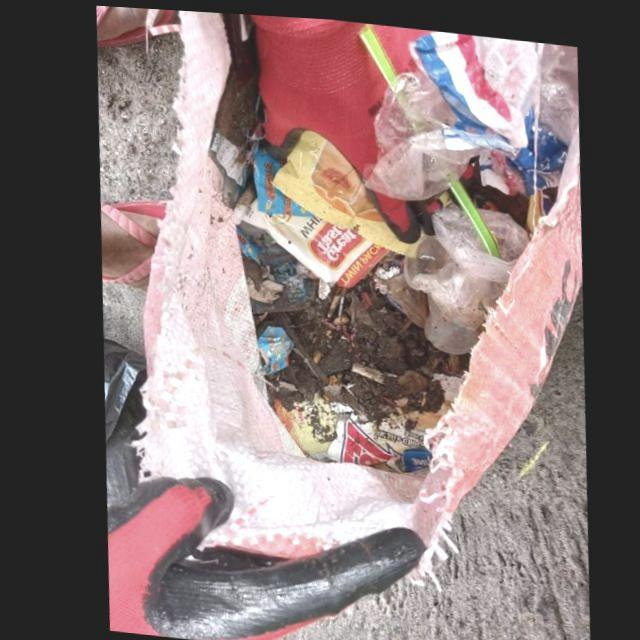food_wrapper: (269, 127, 423, 253)
plastic_bag: (400, 199, 526, 348)
plastic_sachet: (240, 195, 386, 284)
